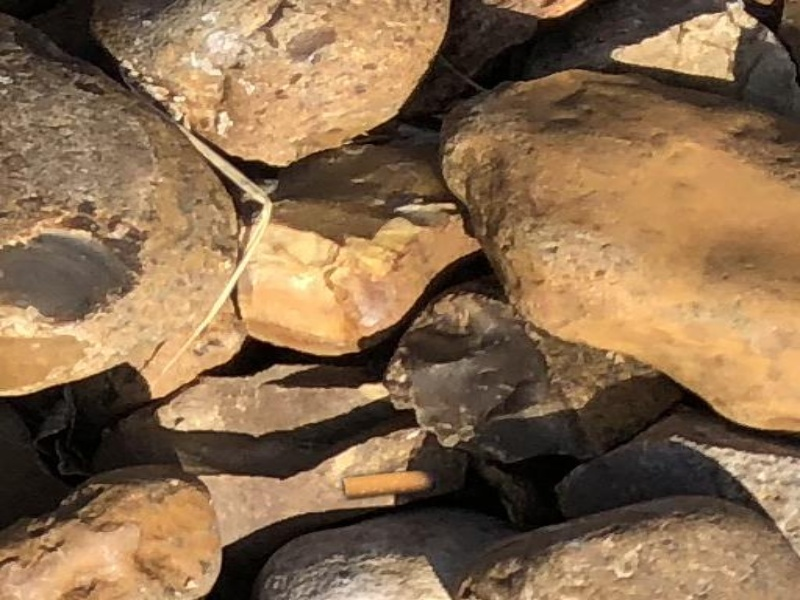cig: (337, 469, 438, 495)
